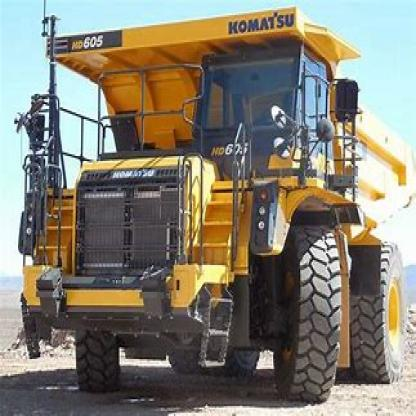dump_truck: (8, 5, 411, 396)
